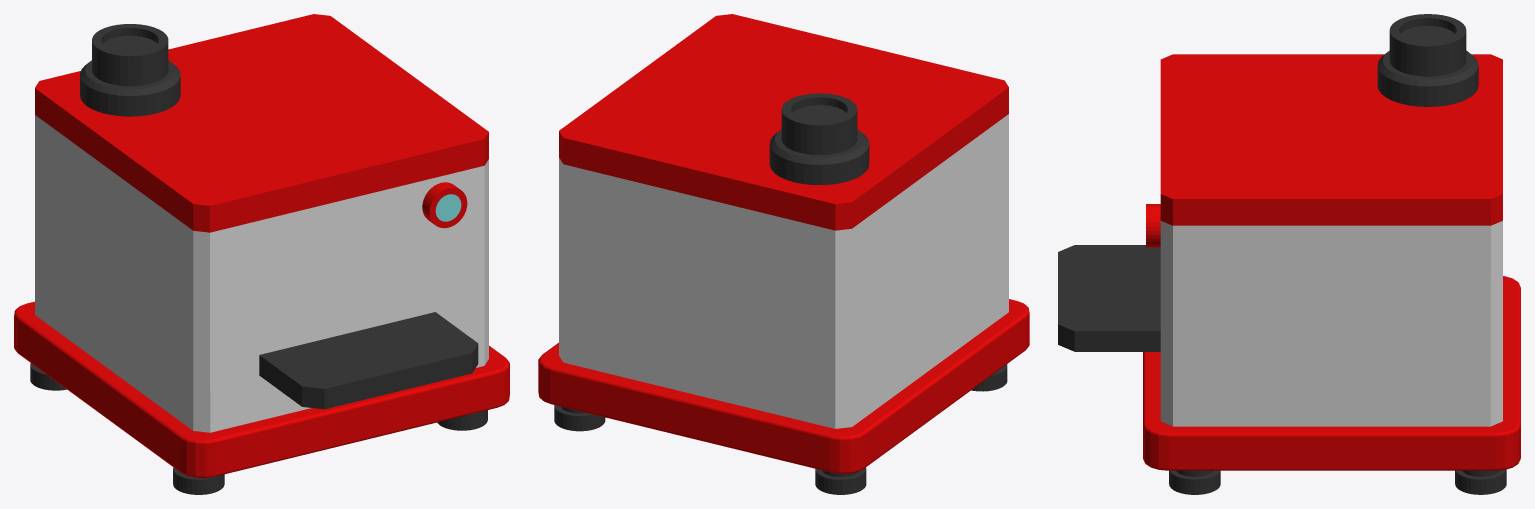
The model's file is frn.2.fbx.
3 views of the same model, side by side, from view 1: azimuth 30°, elevation 25°; view 2: azimuth 150°, elevation 25°; view 3: azimuth 270°, elevation 25° (orthographic).
Parts seen in each view (by area): view 1: Cylinder.001; view 2: Cylinder.001; view 3: Cylinder.001.
Part boxes in pixels (box(x1,y1,x2,y2)): Cylinder.001: box(14, 14, 509, 494); Cylinder.001: box(538, 14, 1029, 494); Cylinder.001: box(1058, 14, 1520, 494).
Bounding box in the file's own units: 221 × 224 × 270.
